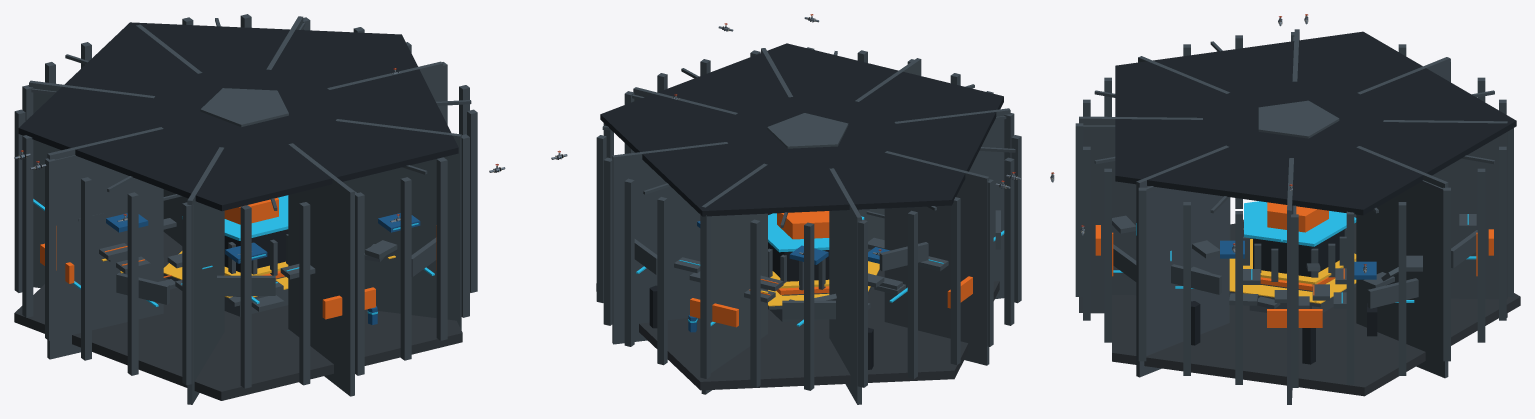
The model's file is CPU_Thermal_Reactor_LowPoly.fbx.
3 views of the same model, side by side, from view 1: azimuth 30°, elevation 25°; view 2: azimuth 150°, elevation 25°; view 3: azimuth 270°, elevation 25° (orthographic). The views are drawn at different scales.
Visible parts, largest first — view 1: Ceiling ring, Reactor floor, Moving jump platform 1-7 (5), Moving jump platform 1-7 (1), Moving jump platform 1-7 (7), Moving jump platform 1-7 (3), Ceiling hub, Moving jump platform 1-7, Wall rib 21, Wall rib 15, Wall rib 18, Wall rib 17 (+18 smaller); view 2: Ceiling ring, Reactor floor, Moving jump platform 1-7 (5), Moving jump platform 1-7 (2), Moving jump platform 1-7 (6), Moving jump platform 1-7, Moving jump platform 1-7 (3), Ceiling hub, Wall rib 8, Wall rib 5, Wall rib 6, Wall rib 9 (+20 smaller); view 3: Ceiling ring, Reactor floor, Moving jump platform 1-7 (1), Moving jump platform 1-7 (2), Moving jump platform 1-7 (6), Moving jump platform 1-7 (7), Ceiling hub, Cyan stabilizer ring, Upper core housing, Wall rib 5, Wall rib 22, Wall rib 3 (+23 smaller).
Part boxes in pixels (x1,y1,x2,y2): Ceiling ring: [18, 22, 458, 211]; Reactor floor: [14, 232, 462, 400]; Moving jump platform 1-7 (5): [47, 127, 163, 359]; Moving jump platform 1-7 (1): [336, 119, 461, 329]; Moving jump platform 1-7 (7): [288, 143, 354, 396]; Moving jump platform 1-7 (3): [187, 147, 224, 404]; Ceiling hub: [200, 88, 288, 126]; Moving jump platform 1-7: [29, 80, 154, 287]; Wall rib 21: [436, 157, 447, 340]; Wall rib 15: [127, 192, 138, 375]; Wall rib 18: [299, 202, 310, 385]; Wall rib 17: [240, 205, 251, 388]; Ceiling ring: [600, 43, 1003, 216]; Reactor floor: [596, 270, 999, 390]; Moving jump platform 1-7 (5): [884, 151, 989, 365]; Moving jump platform 1-7 (2): [612, 142, 727, 344]; Moving jump platform 1-7 (6): [701, 163, 767, 394]; Moving jump platform 1-7: [829, 168, 861, 404]; Moving jump platform 1-7 (3): [894, 108, 1010, 298]; Ceiling hub: [767, 113, 848, 148]; Wall rib 8: [750, 219, 760, 387]; Wall rib 5: [624, 178, 634, 346]; Wall rib 6: [657, 197, 667, 365]; Wall rib 9: [804, 222, 814, 390]; Ceiling ring: [1115, 31, 1516, 215]; Reactor floor: [1112, 214, 1520, 396]; Moving jump platform 1-7 (1): [1136, 145, 1229, 377]; Moving jump platform 1-7 (2): [1356, 146, 1448, 378]; Moving jump platform 1-7 (6): [1383, 120, 1507, 317]; Moving jump platform 1-7 (7): [1079, 116, 1202, 313]; Ceiling hub: [1258, 100, 1339, 138]; Cyan stabilizer ring: [1244, 201, 1356, 246]; Upper core housing: [1253, 228, 1346, 276]; Wall rib 5: [1477, 168, 1485, 342]; Wall rib 22: [1138, 187, 1146, 361]; Wall rib 3: [1398, 202, 1406, 375].
Bounding box in the file's own units: 206 × 95 × 202.
